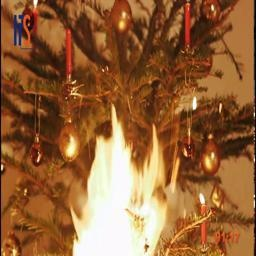fire: (73, 106, 181, 256)
